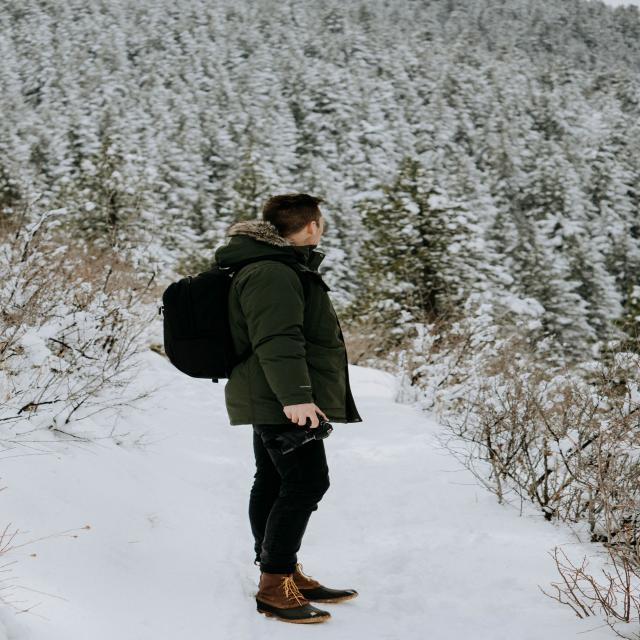backpack: (169, 254, 303, 381)
